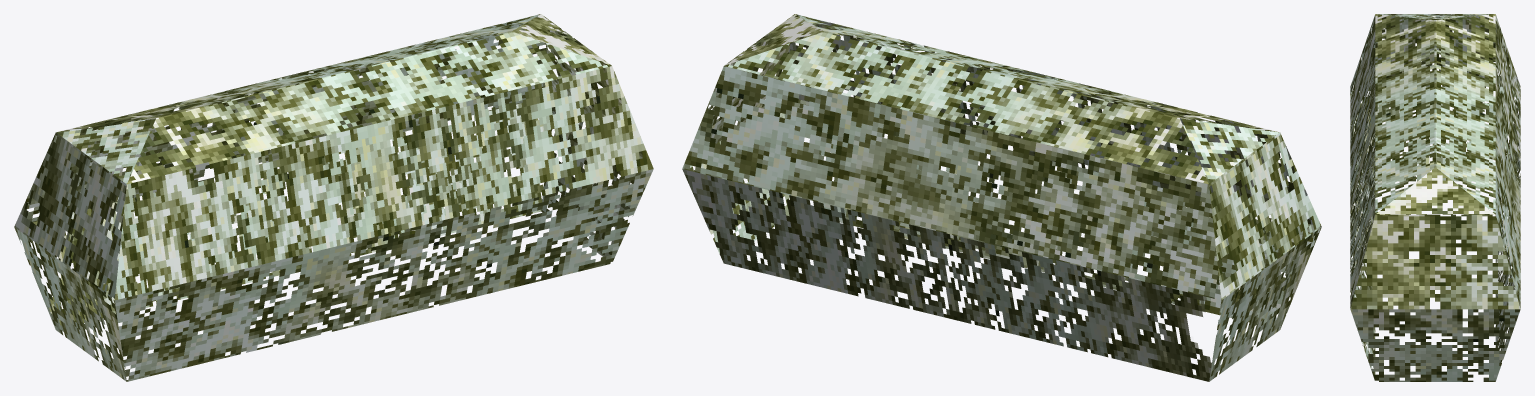
File: bush_long_single_winter.glb
3 renders of one model, left to right at view 1: azimuth 30°, elevation 25°; view 2: azimuth 150°, elevation 25°; view 3: azimuth 270°, elevation 25°, orthographic. The views are drawn at different scales.
Visible parts, largest first — view 1: bush_long_single_winter; view 2: bush_long_single_winter; view 3: bush_long_single_winter.
Part boxes in pixels (x1,y1,x2,y2): bush_long_single_winter: (14, 14, 653, 381); bush_long_single_winter: (682, 14, 1321, 381); bush_long_single_winter: (1350, 14, 1520, 381).
Bounding box in the file's own units: 2.23 × 0.8765 × 0.7191.
1 material, 1 textured.
